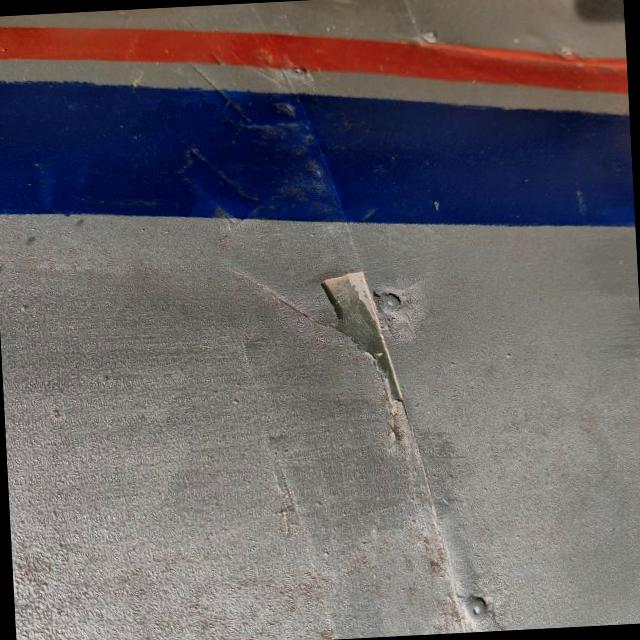paint-off: (268, 241, 462, 448)
